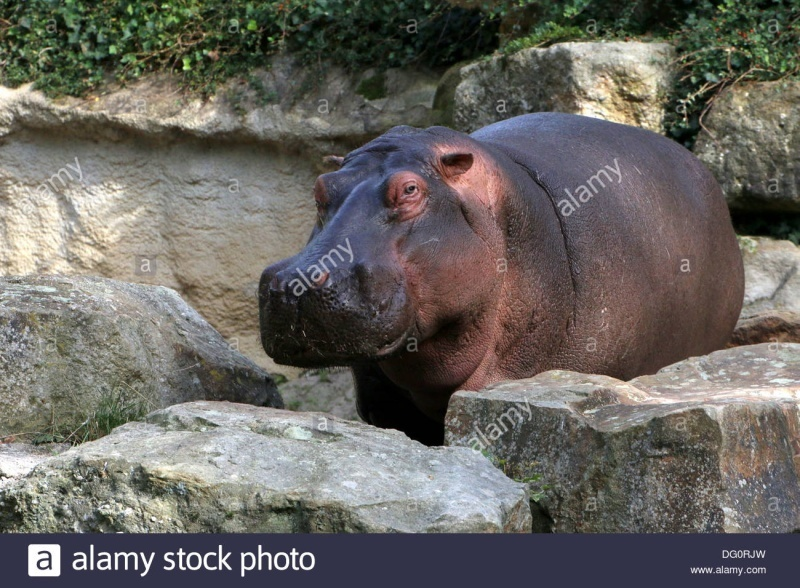hipopotamo: (244, 105, 752, 422)
